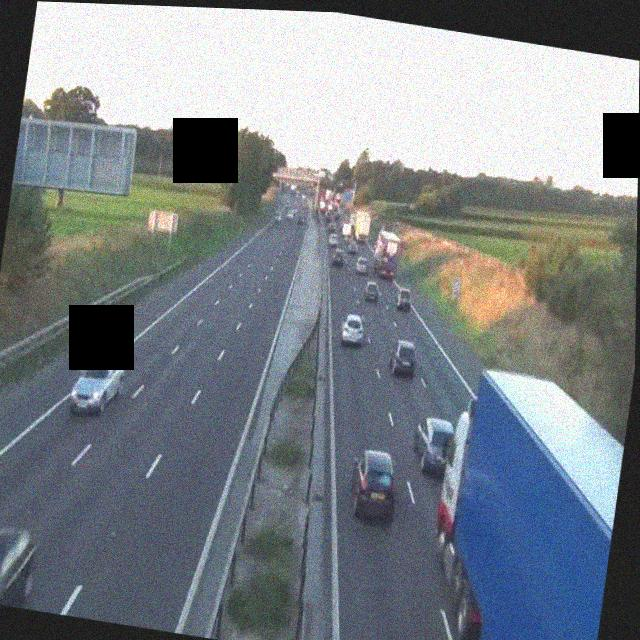car: (69, 344, 126, 419), (347, 448, 401, 523), (0, 520, 39, 610), (410, 414, 456, 478), (387, 337, 418, 378), (339, 313, 366, 347), (394, 286, 413, 311), (362, 280, 379, 302), (353, 254, 369, 275), (332, 248, 346, 267), (328, 232, 338, 247), (348, 241, 359, 254), (273, 213, 282, 224), (296, 213, 305, 224)
truck: (416, 361, 632, 640), (370, 227, 402, 280), (351, 206, 373, 245)
